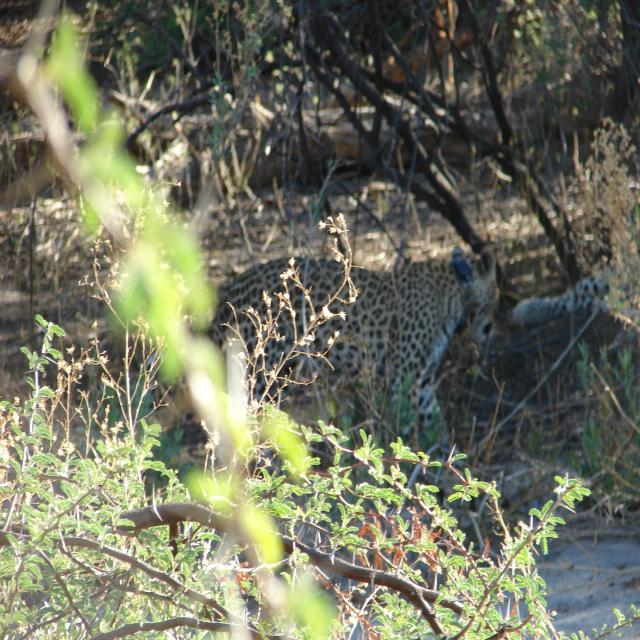Leopard: (229, 232, 498, 451)
